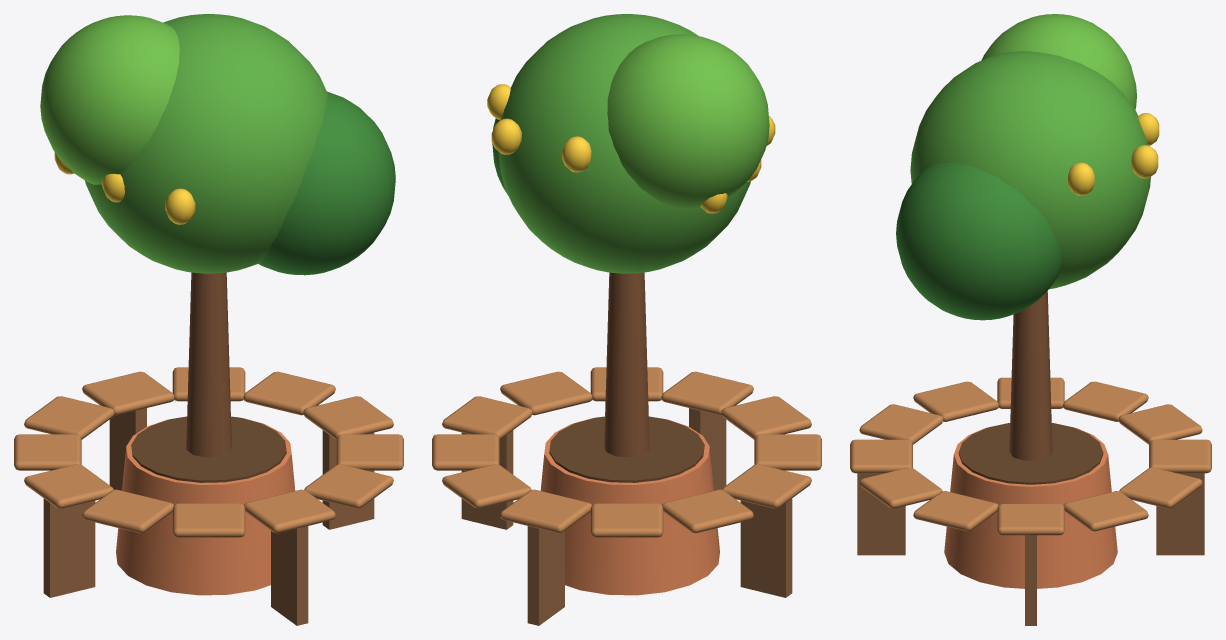
The model's file is parasol-tree.glb.
The picture shows the model from 3 angles, left to right: view 1: azimuth 30°, elevation 25°; view 2: azimuth 150°, elevation 25°; view 3: azimuth 270°, elevation 25°; orthographic projection. The views are drawn at different scales.
Bounding box in the file's own units: 1.5 × 2.29 × 1.5.
